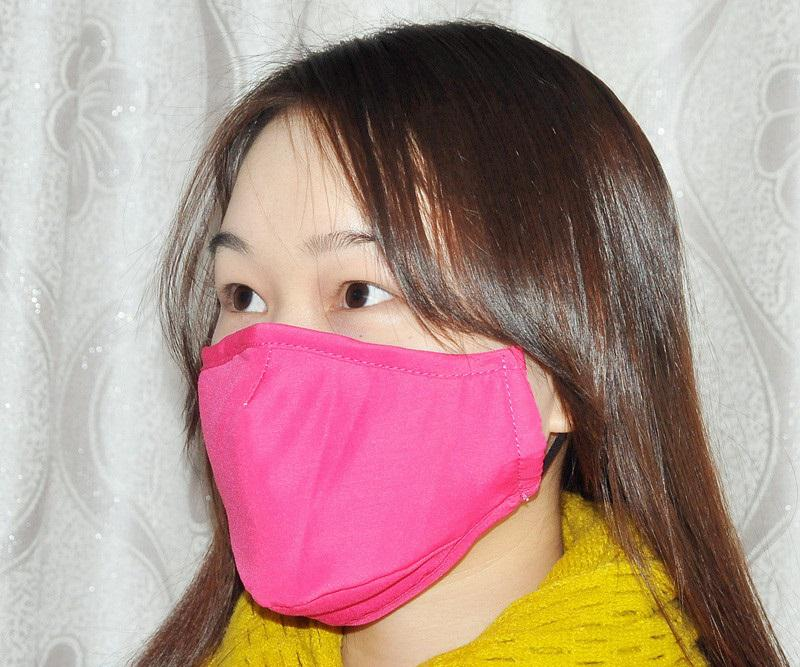OK: (185, 217, 581, 613)
